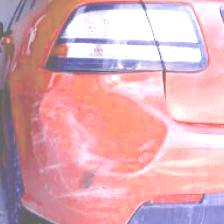bumper_dent: (34, 71, 172, 194)
